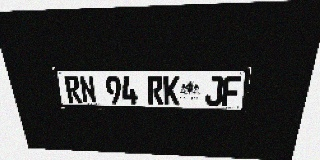4: (121, 76, 138, 104)
9: (105, 76, 123, 104)
F: (221, 76, 241, 106)
J: (205, 76, 223, 106)
K: (163, 76, 179, 105)
N: (79, 76, 97, 104)
R: (64, 76, 83, 103), (147, 76, 163, 105)
